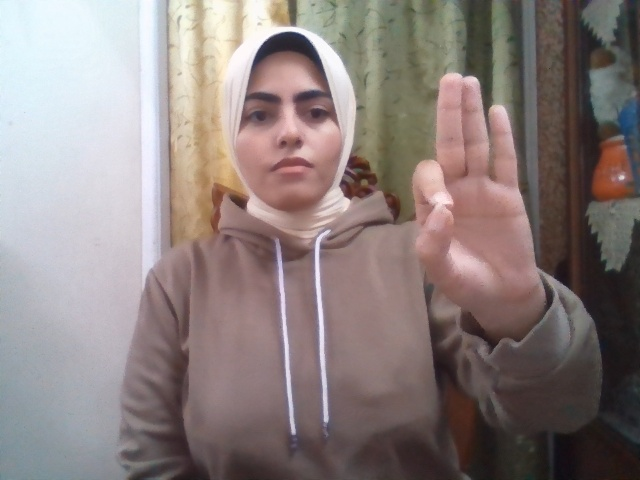F: (413, 72, 540, 315)
